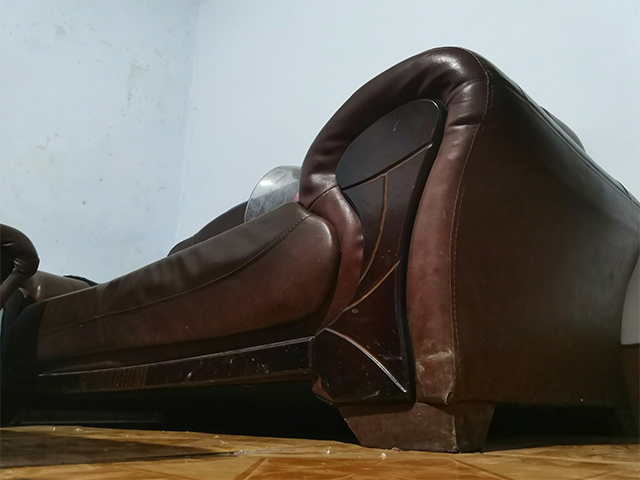sofa: (1, 43, 640, 455)
